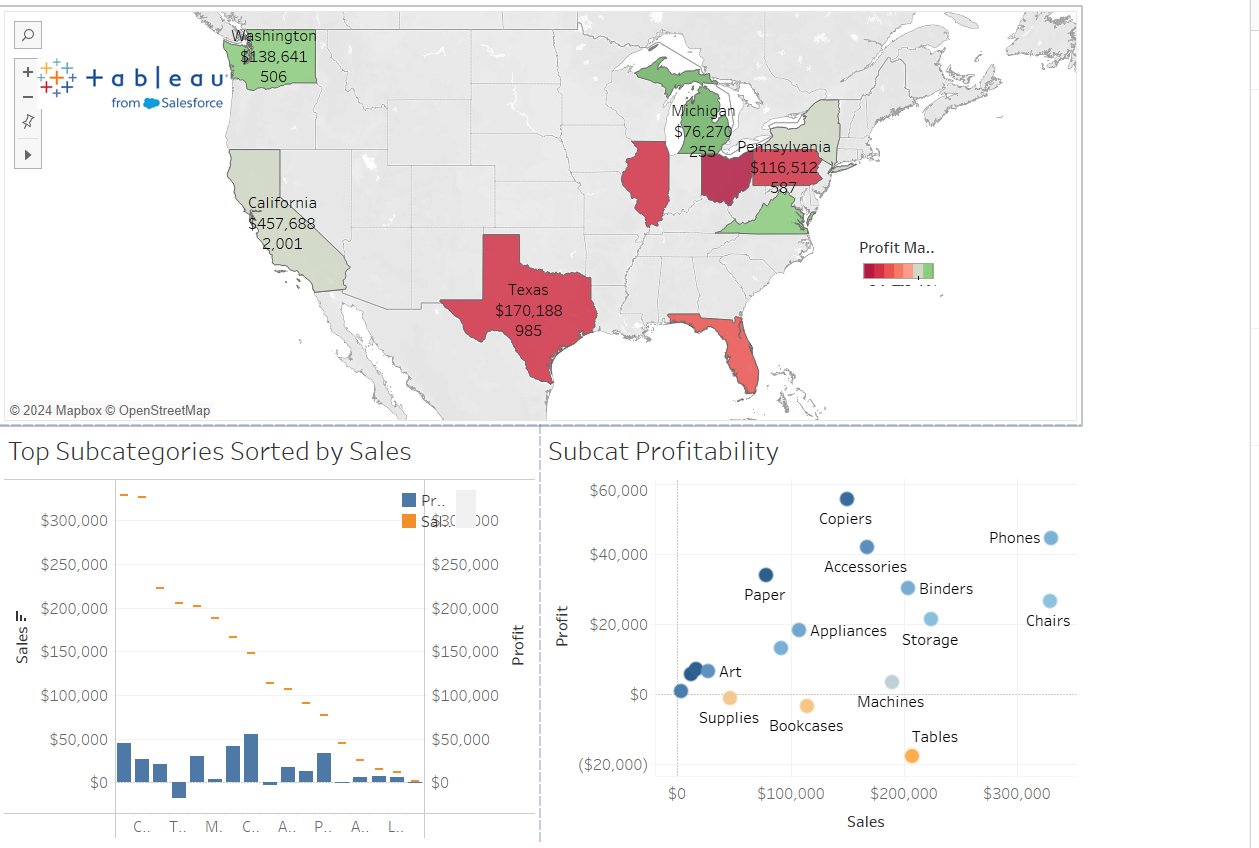

This screenshot's page, from the dashboard's own definition file:
{"tool":"tableau","page":{"name":"Subcategories dashboard","canvas":[1000,1000],"units":"permille","ordinal":0},"visuals":[{"type":"worksheet","title":"Profit Margin Map","mark":"Automatic","box":[6.4,9.4,860,490.6]},{"type":"image","param":"Image/Tableau.png","box":[35.7,69.8,151.8,70.5]},{"type":"legend","title":"Profit Margin Map","param":"[federated.17lmrv81bwuy2b181zizp0pb508v].[usr:Calculation_898468182097682432:qk]","box":[690,279.1,62.5,58.3]},{"type":"worksheet","title":"Top Subcategories Sorted by Sales","mark":"Automatic","rows":["Sales","Profit"],"cols":["Sub-Category"],"box":[6.4,500,430,490.6]},{"type":"worksheet","title":"Subcat Profitability","mark":"Circle","rows":["Profit"],"cols":["Sales"],"box":[436.3,500,430,490.6]},{"type":"legend","title":"Top Subcategories Sorted by Sales","param":"[federated.17lmrv81bwuy2b181zizp0pb508v].[:Measure Names]","box":[323.8,576.7,62.5,44.5]}]}

Visuals, with their boxes on the dashboard's canvas, which has no fixed pixel size, in thousandths of its width and height (x1, y1, x2, y2). These are canvas units, not pixel positions in the 1259x848 screenshot, which may show the page scaled, cropped or inside an application window:
"Profit Margin Map" worksheet: rect(6, 9, 866, 500)
image: rect(36, 70, 188, 140)
"Profit Margin Map" legend: rect(690, 279, 752, 337)
"Top Subcategories Sorted by Sales" worksheet: rect(6, 500, 436, 991)
"Subcat Profitability" worksheet (Circle marks): rect(436, 500, 866, 991)
"Top Subcategories Sorted by Sales" legend: rect(324, 577, 386, 621)
